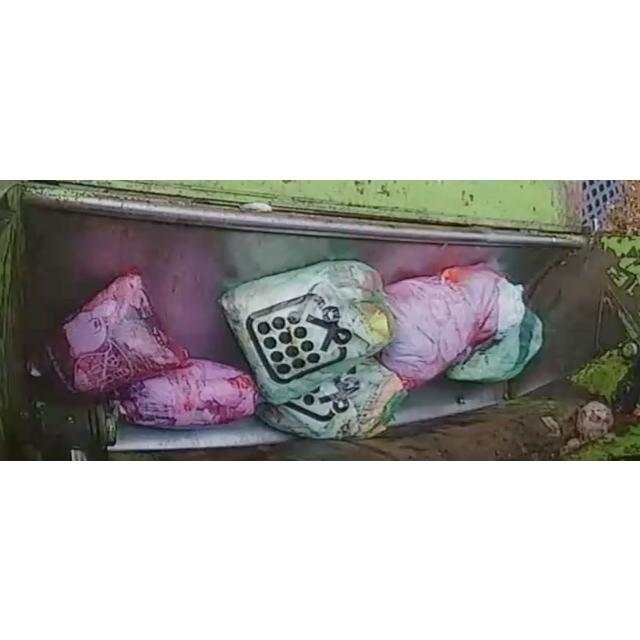general_trashbag: (221, 259, 394, 401), (258, 358, 406, 438), (446, 278, 542, 382)
other_trashbag: (46, 268, 189, 392), (380, 264, 500, 388), (111, 358, 258, 426)
